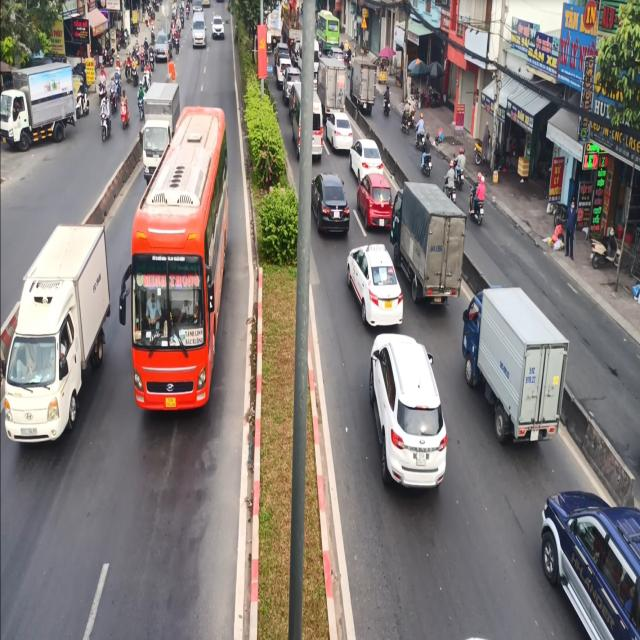bus: (126, 103, 234, 427)
car: (531, 470, 640, 640), (368, 332, 448, 497), (346, 238, 404, 330), (357, 167, 397, 231), (313, 168, 351, 234)
truck: (0, 212, 113, 452), (463, 275, 565, 463), (393, 173, 463, 295), (140, 69, 175, 185)
